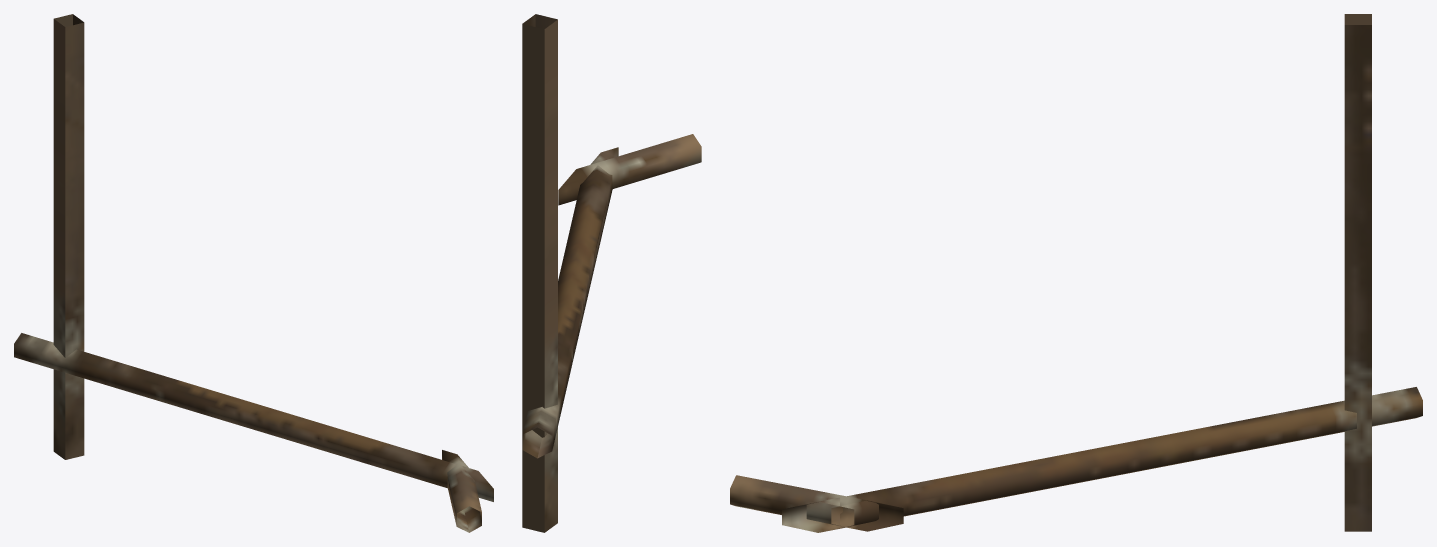
Rendered from section-6.obj.
3 views of the same model, side by side, from view 1: azimuth 30°, elevation 25°; view 2: azimuth 150°, elevation 25°; view 3: azimuth 270°, elevation 25° (orthographic). The views are drawn at different scales.
Bounding box in the file's own units: 0.6253 × 1.22 × 1.52.
Materials: 1 (1 with a texture image).
